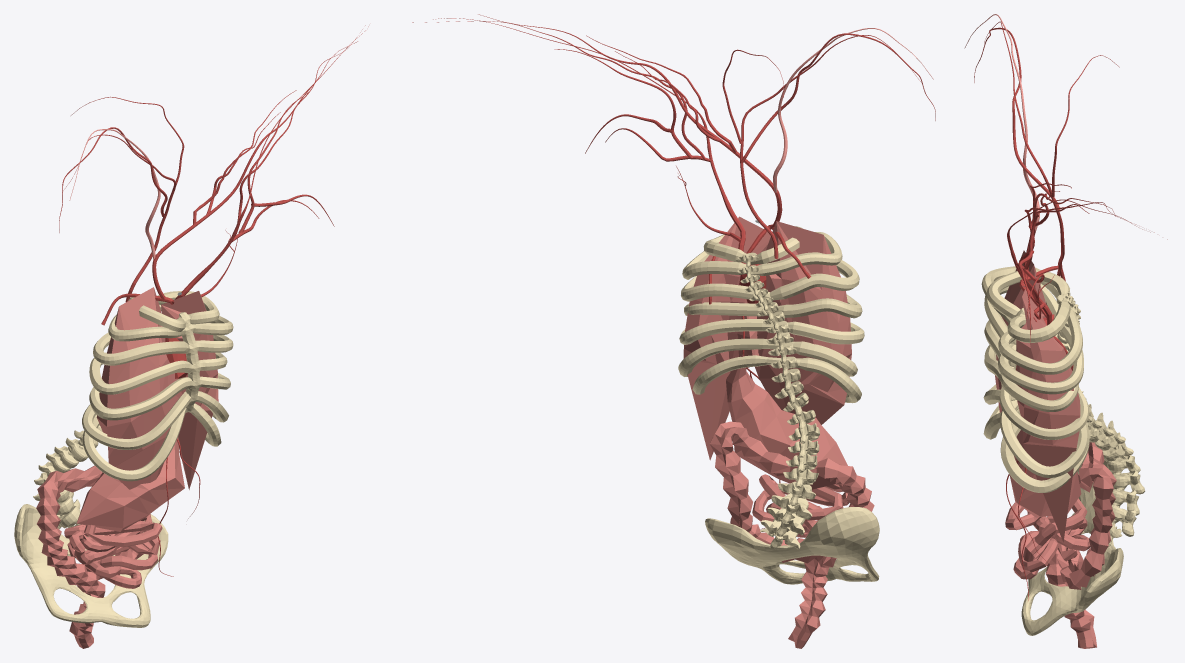
File: organs.obj
3 renders of one model, left to right at view 1: azimuth 30°, elevation 25°; view 2: azimuth 150°, elevation 25°; view 3: azimuth 270°, elevation 25°, orthographic. The views are drawn at different scales.
Bounding box in the file's own units: 8.23 × 10.73 × 3.24.
